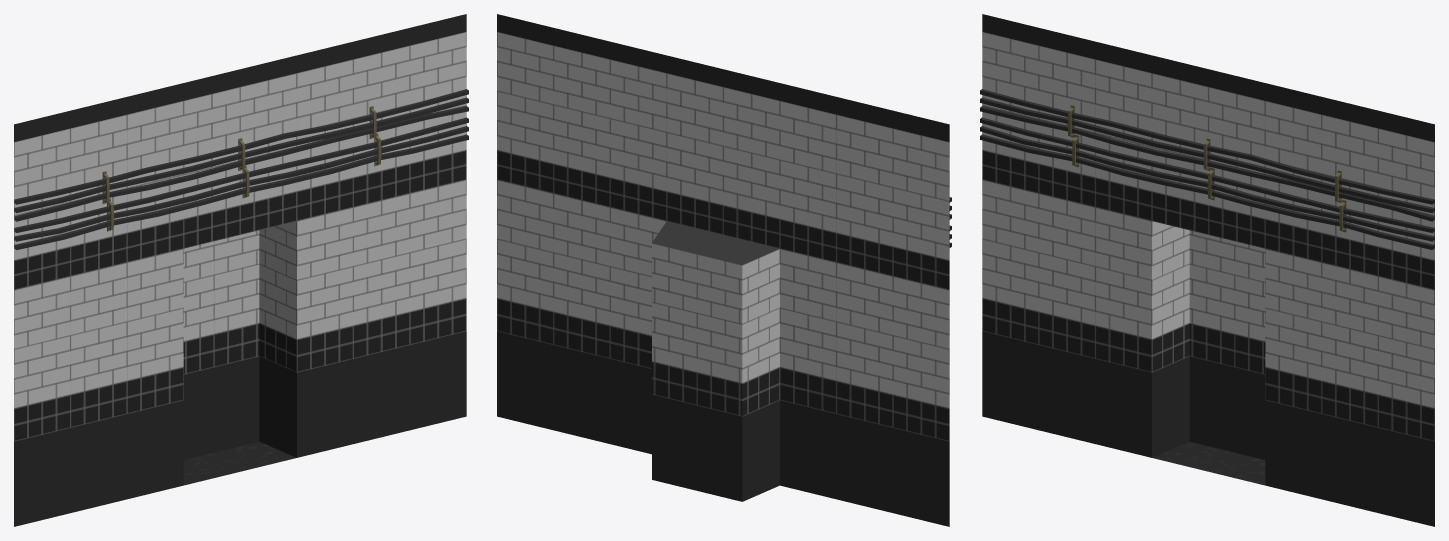
Rendered from SW_ENV_StationTunnel_Wall_A_02b_05m_FF.fbx.
3 renders of one model, left to right at view 1: azimuth 30°, elevation 25°; view 2: azimuth 150°, elevation 25°; view 3: azimuth 330°, elevation 25°, orthographic.
Visible parts, largest first — view 1: SW_ENV_StationTunnel_Wall_A_02b_05m_FF; view 2: SW_ENV_StationTunnel_Wall_A_02b_05m_FF; view 3: SW_ENV_StationTunnel_Wall_A_02b_05m_FF.
Part boxes in pixels (bbox=[...]): SW_ENV_StationTunnel_Wall_A_02b_05m_FF: bbox=[14, 14, 468, 526]; SW_ENV_StationTunnel_Wall_A_02b_05m_FF: bbox=[497, 14, 951, 526]; SW_ENV_StationTunnel_Wall_A_02b_05m_FF: bbox=[980, 14, 1434, 526].
Bounding box in the file's own units: 500 × 425 × 57.06.
